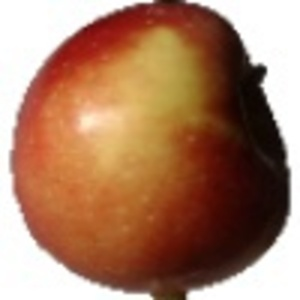maçã braeburn: (10, 2, 291, 293)
